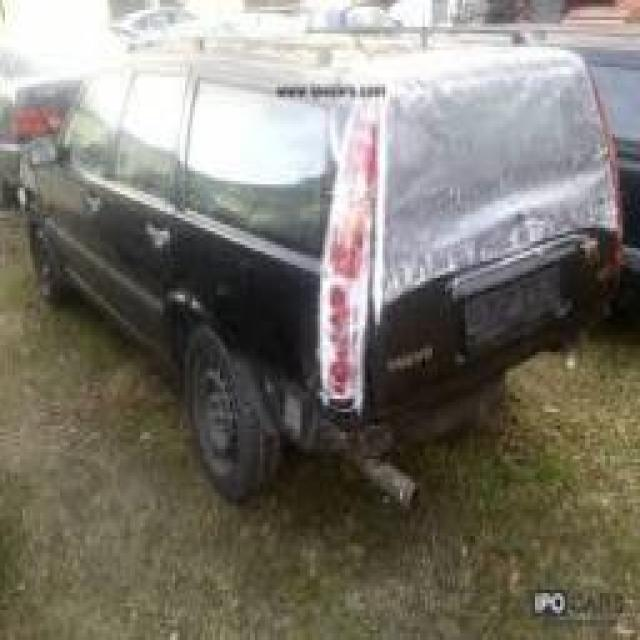Bumper: (353, 305, 619, 450)
Light: (314, 95, 383, 425)
Windshield: (372, 64, 627, 292)
